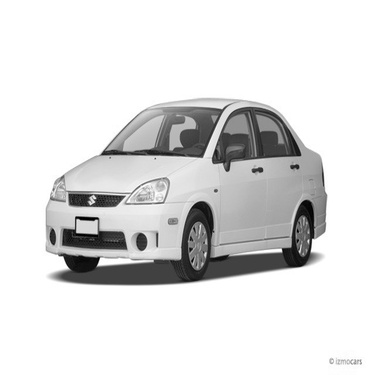car: (37, 95, 334, 281)
